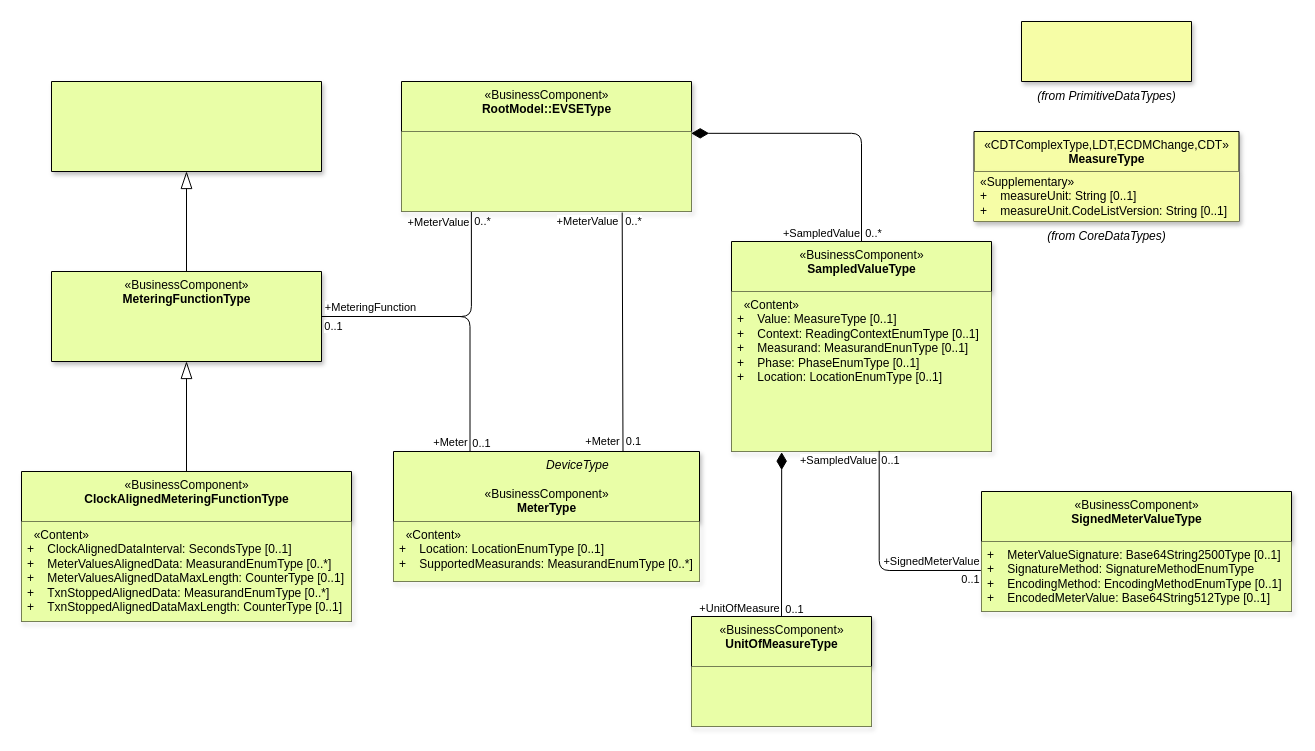
This 1315x751 diagram has some shape labels left out. Here are the shapes that lost their labels. From the top down, the centre of each, then its label:
(1107,52): « PRIMSimpleType »
(187,127): IdentifiedObject « BusinessComponent » RootModel::DeviceFunctionType
(546,171): «Content» + TimeStamp: DateTime [0..1]
(781,696): «Content» + Unit: CI20TextType [0..1] + Multiplier: IntegerType [0..1]
